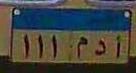1: (21, 32, 32, 61), (49, 33, 61, 59), (35, 33, 46, 60)
alif: (113, 32, 123, 60)
daal: (93, 37, 107, 58)
meem: (75, 35, 89, 59)
